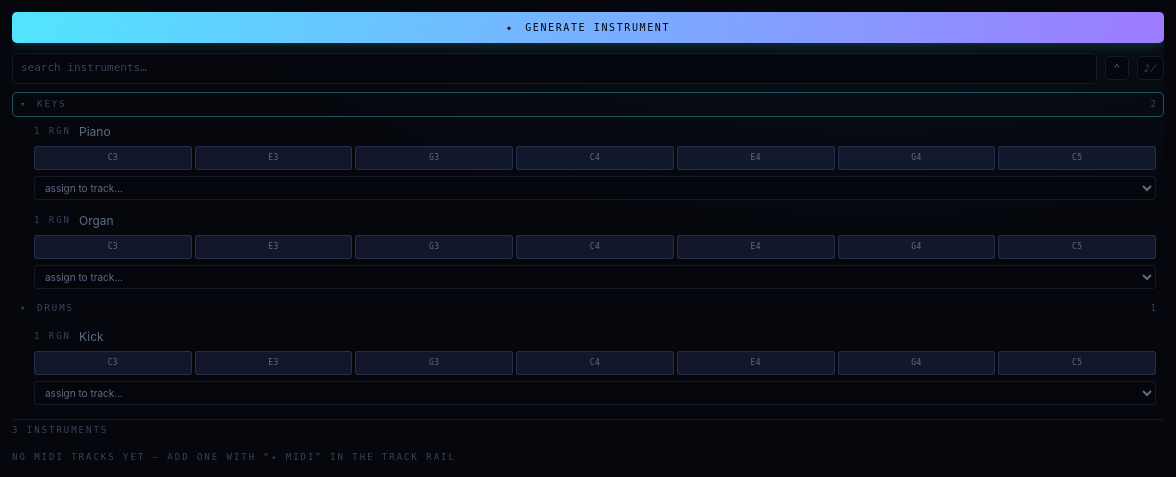
Test: InstrumentBrowser collapse-all › folds every bank group on press
Check: the text "Piano" is shown, box left=79, top=124, right=111, bottom=139
Check: the text "Kick" is shown, box left=79, top=328, right=104, bottom=344
What coordinates should you click on to do the following:
click the button "⌃"
I would click on:
 (1117, 68)
Its box is left=1105, top=56, right=1129, bottom=80.
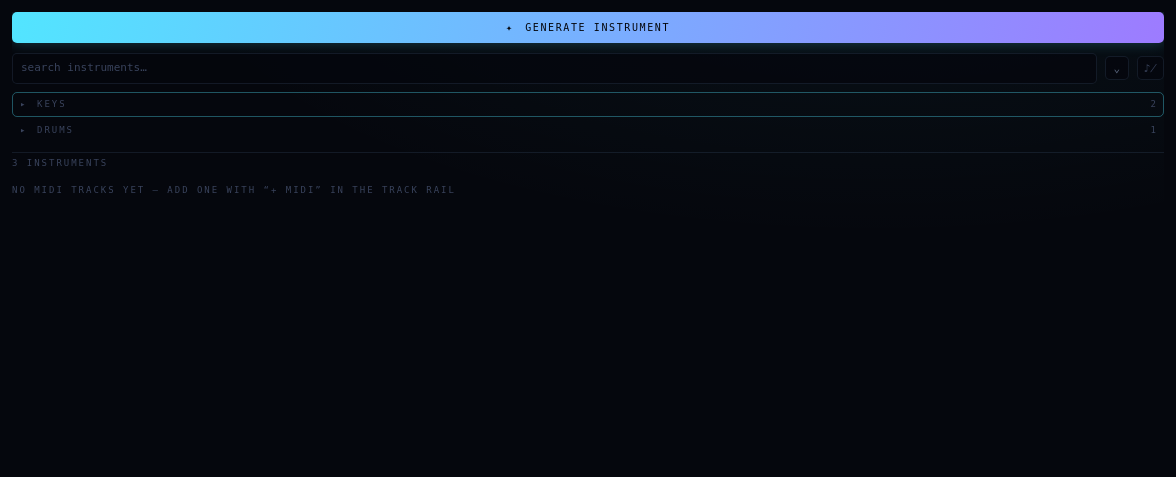
Check: the text "Piano" is gone
Check: the text "Kick" is gone
